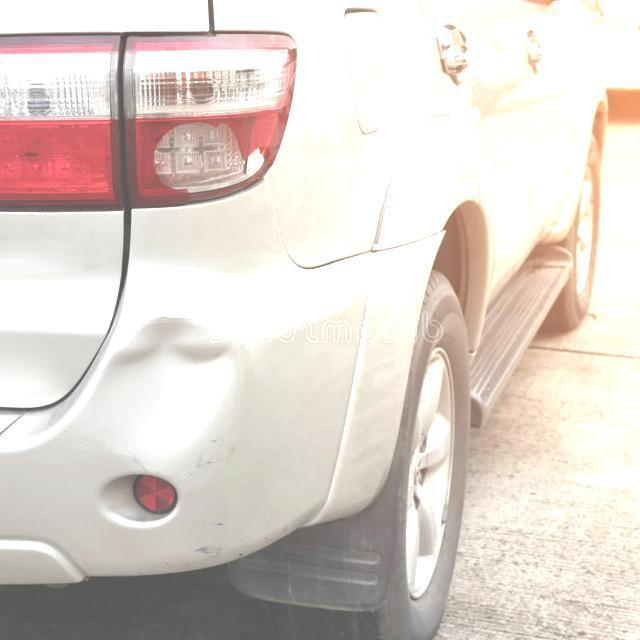minor: (78, 310, 237, 457), (192, 544, 231, 566)
